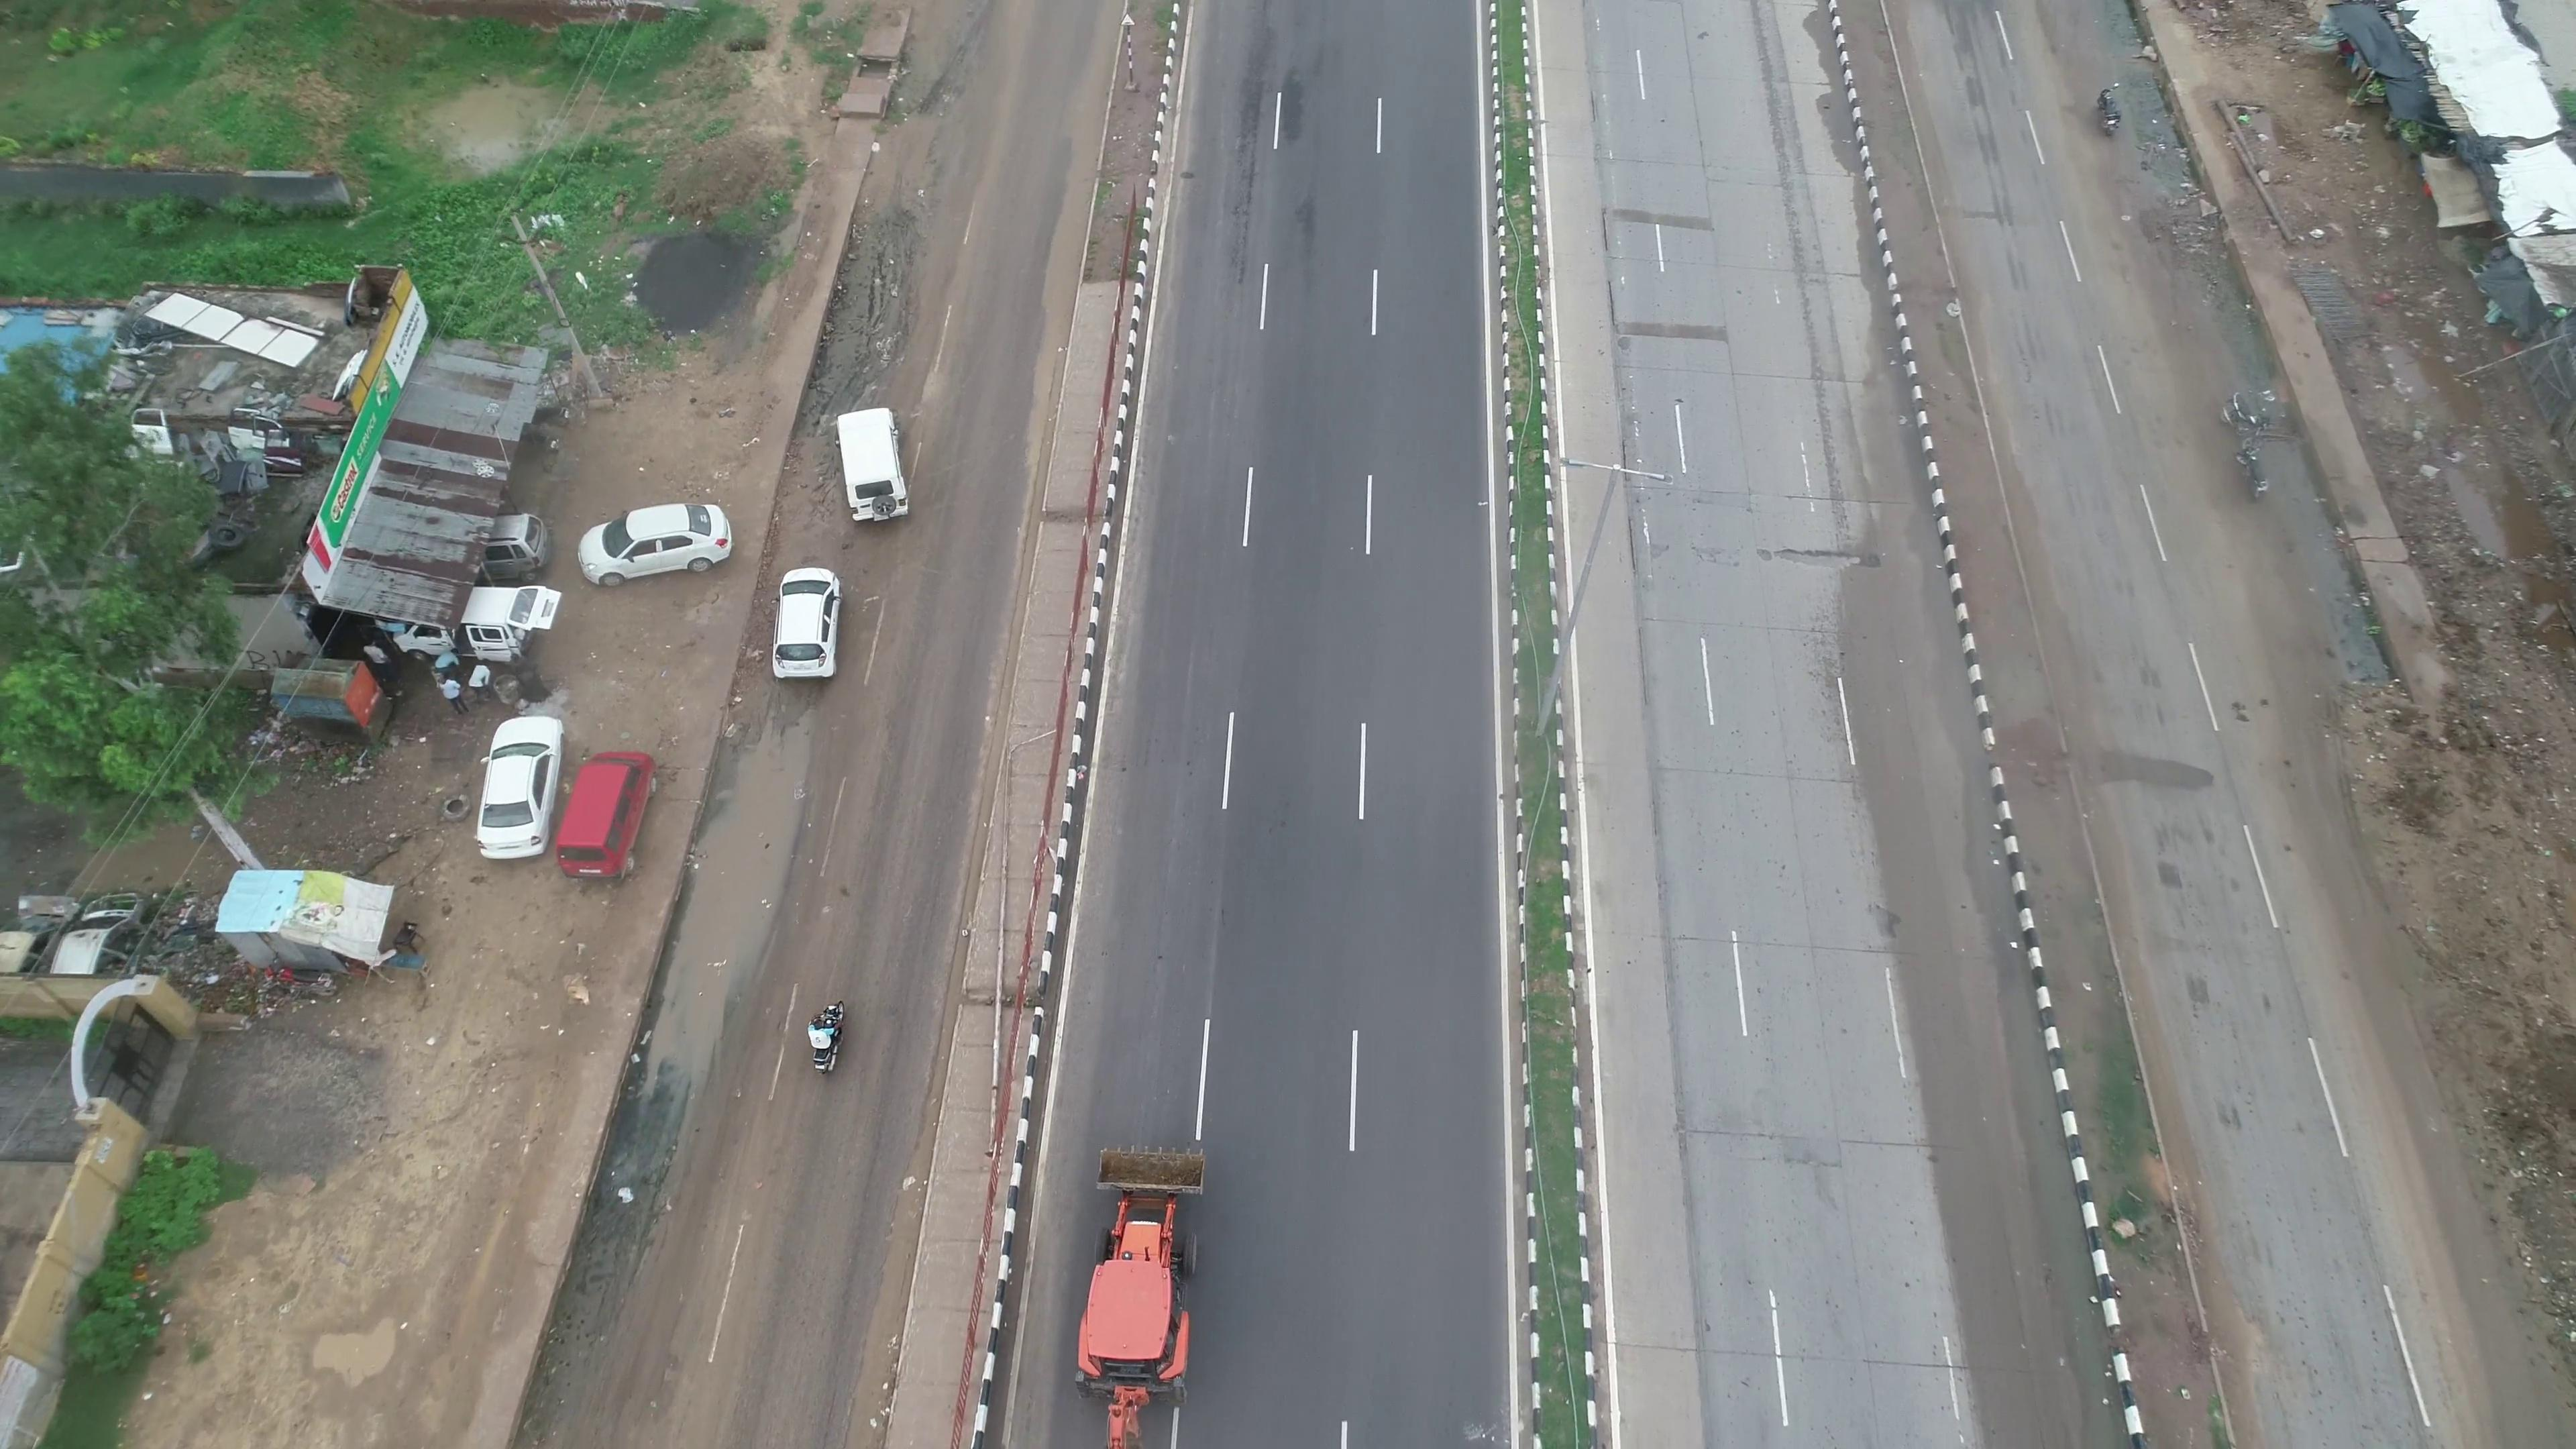Ravelling: (1219, 42, 1272, 288)
